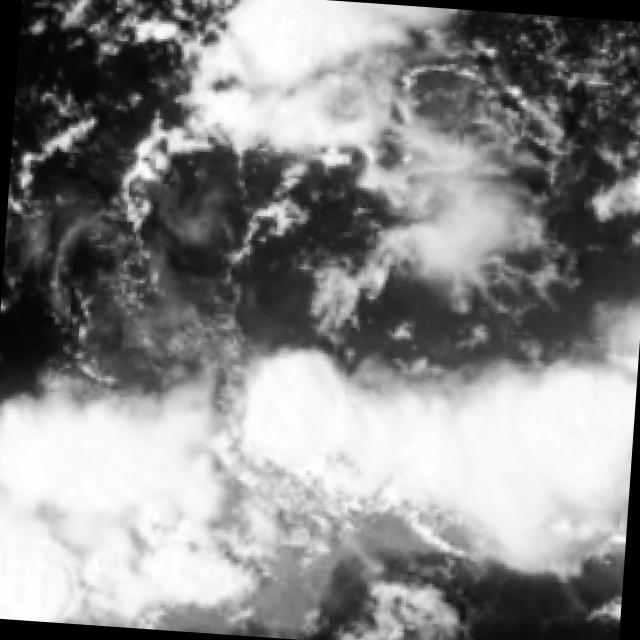CB: (0, 414, 205, 579), (319, 393, 626, 492)
